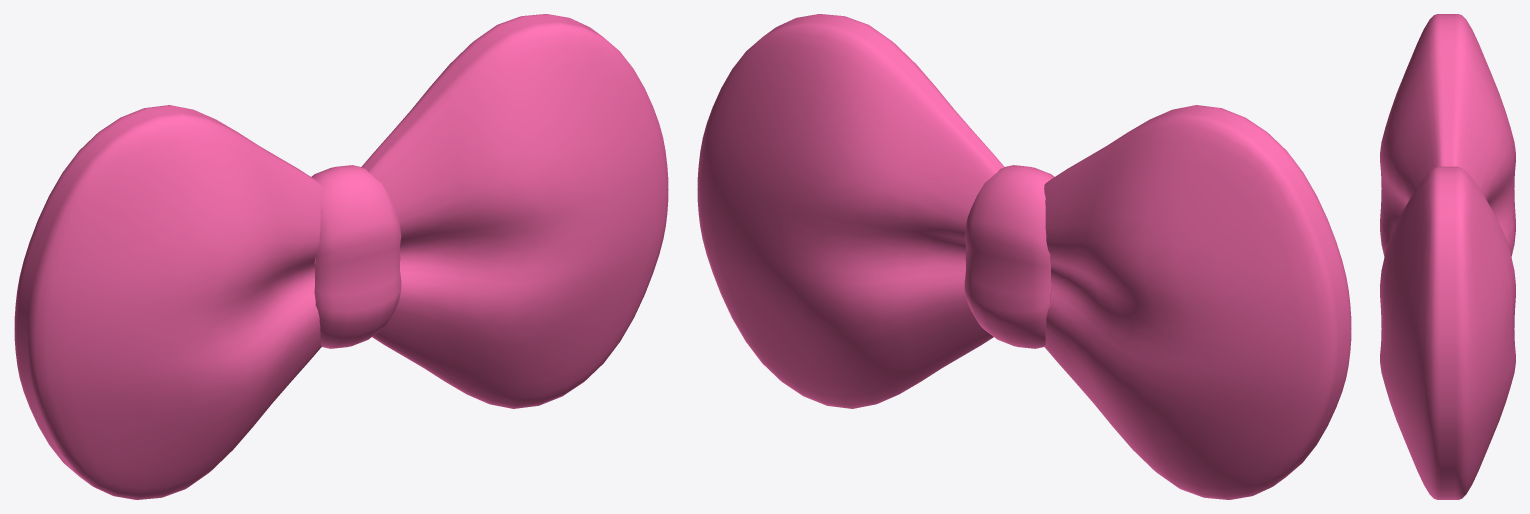
The model's file is ribbon.fbx.
3 views of the same model, side by side, from view 1: azimuth 30°, elevation 25°; view 2: azimuth 150°, elevation 25°; view 3: azimuth 270°, elevation 25° (orthographic). The views are drawn at different scales.
Parts seen in each view (by area): view 1: 리본; view 2: 리본; view 3: 리본.
Boxes of the visible parts, x1,y1,x2,y2 form: 리본: (14,14,668,499); 리본: (697,14,1351,499); 리본: (1380,14,1515,499).
Size of the model in its own units: 1.58 by 0.9013 by 0.3506.
